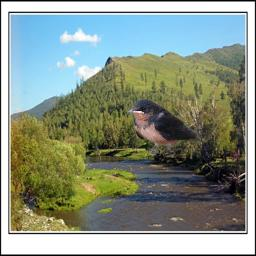Swallow: (127, 98, 202, 155)
